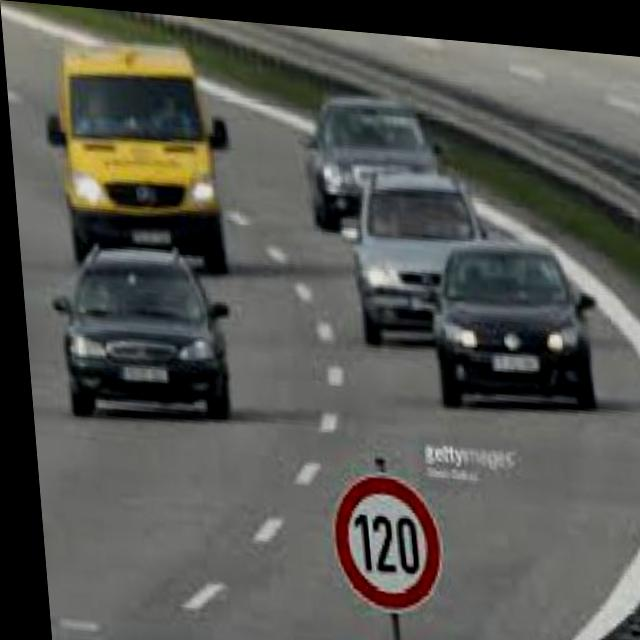limit120: (321, 463, 439, 618)
